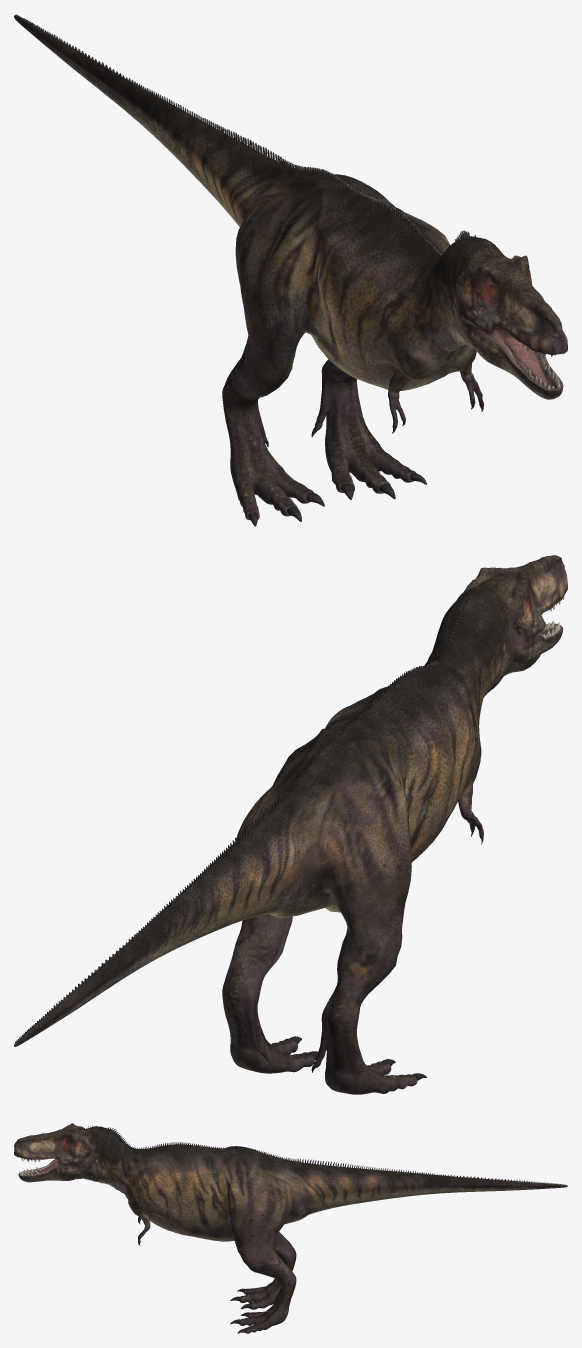
The model's file is trex.gltf.
3 views of the same model, one above another, from view 1: azimuth 30°, elevation 25°; view 2: azimuth 150°, elevation 25°; view 3: azimuth 270°, elevation 25° (orthographic). The views are drawn at different scales.
Parts seen in each view (by area): view 1: Object_2; view 2: Object_2; view 3: Object_2.
Part boxes in pixels (x1,y1,x2,y2): Object_2: (14, 14, 567, 526); Object_2: (14, 555, 567, 1094); Object_2: (14, 1123, 567, 1333).
Size of the model in its own units: 192 by 396 by 1054.
Materials: 1 (1 with a texture image).
